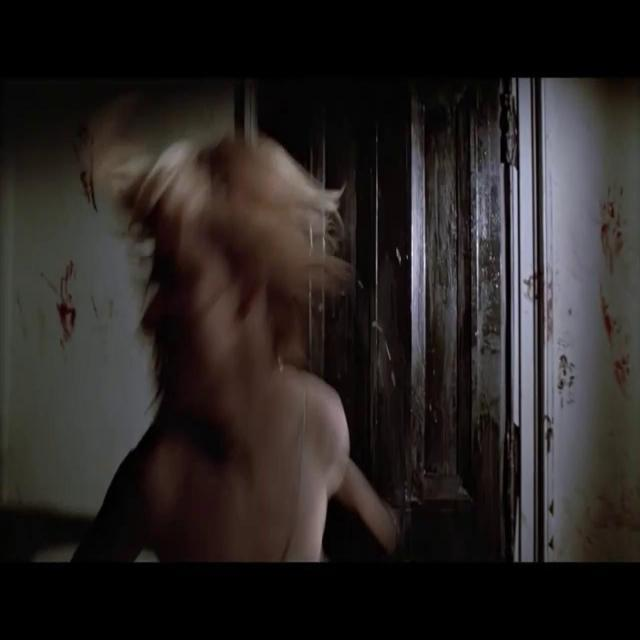flood: (580, 196, 640, 399), (42, 242, 82, 326)
